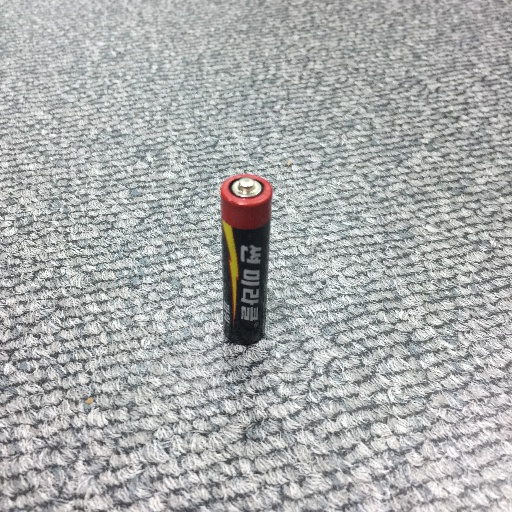Battery_0: (208, 164, 278, 354)
